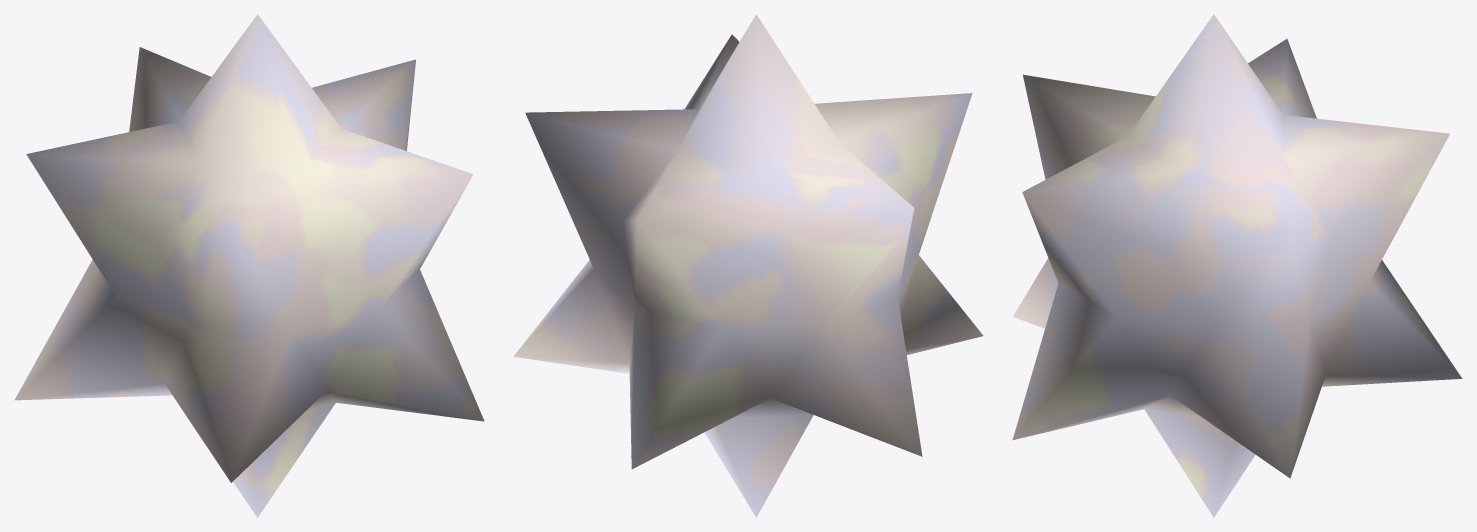
The model's file is Spark_002.glb.
3 renders of one model, left to right at view 1: azimuth 30°, elevation 25°; view 2: azimuth 150°, elevation 25°; view 3: azimuth 270°, elevation 25°, orthographic.
Visible parts, largest first — view 1: 002; view 2: 002; view 3: 002.
Part boxes in pixels (x1=…): 002: x1=14, y1=14, x2=484, y2=517; 002: x1=513, y1=14, x2=983, y2=517; 002: x1=1012, y1=14, x2=1462, y2=517.
Bounding box in the file's own units: 0.4405 × 0.5178 × 0.4191.
Materials: 1 (1 with a texture image).
